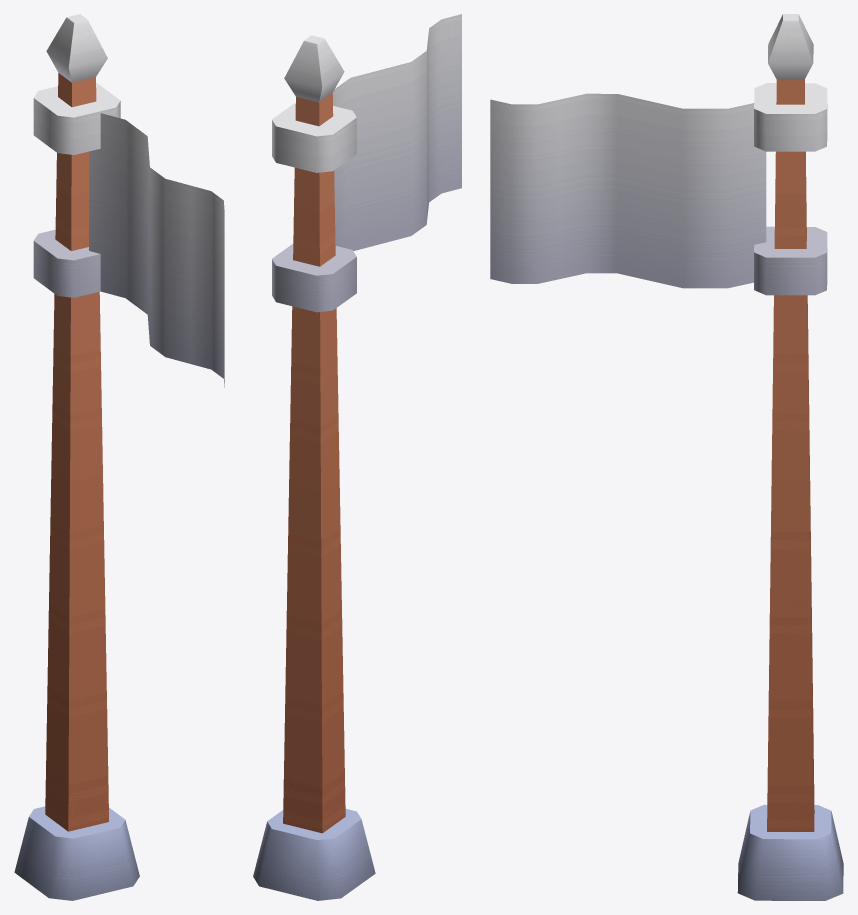
File: flag-high_lev2.glb
3 views of the same model, side by side, from view 1: azimuth 30°, elevation 25°; view 2: azimuth 150°, elevation 25°; view 3: azimuth 270°, elevation 25° (orthographic). The views are drawn at different scales.
Parts seen in each view (by area): view 1: flag-high_lev2; view 2: flag-high_lev2; view 3: flag-high_lev2.
Boxes of the visible parts, x1,y1,x2,y2 form: flag-high_lev2: (14,14,224,900); flag-high_lev2: (253,14,461,900); flag-high_lev2: (490,14,843,900).
Bounding box in the file's own units: 0.7474 × 6.71 × 2.49.
Materials: 1 (1 with a texture image).
